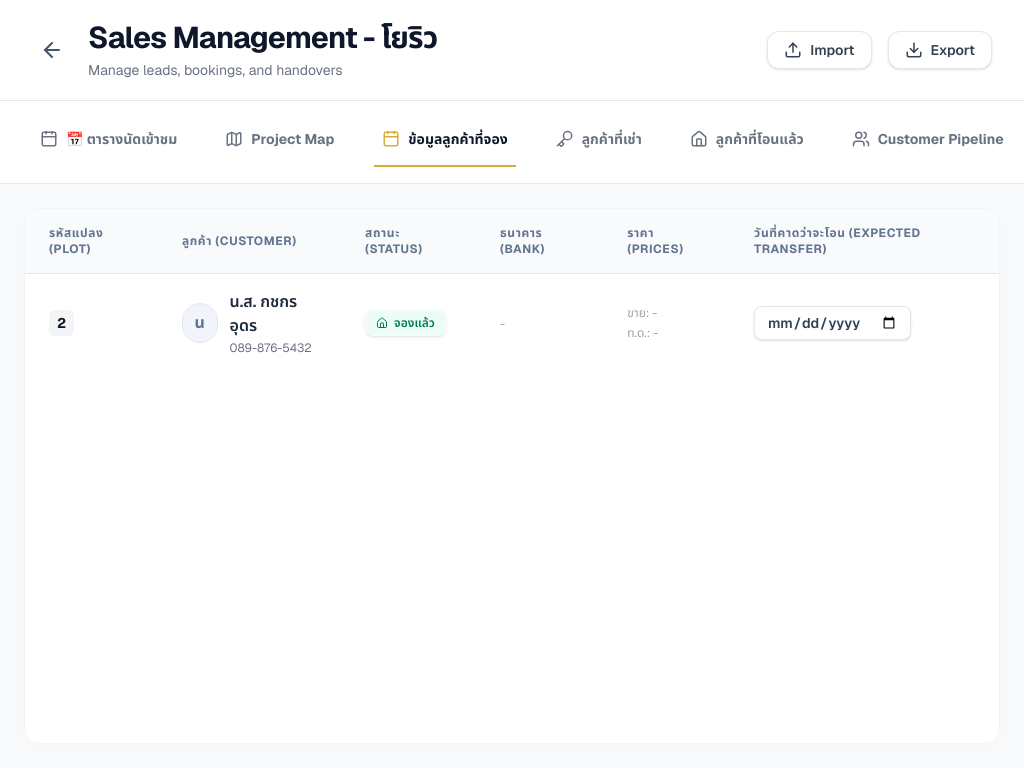
Test: SalesKanban legacy sales & leads deduplication › Finding 2: renders conflict notice banner and resolve action button in SalesKanban custom panel when conflict occurs
Open lead-2 (booked customer)
Click the text "น.ส. กชกร อุดร" at (263, 314), box [230,291,297,336]
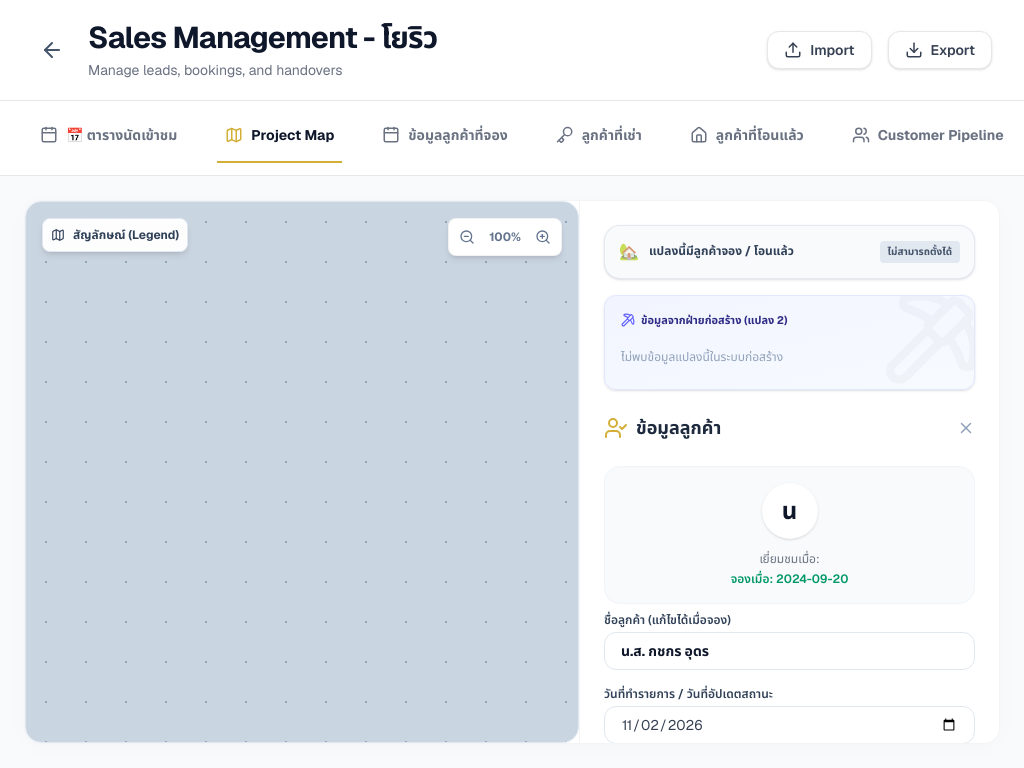
Now the field named "ชื่อลูกค้า" holds "น.ส. กชกร อุดร"
User edits customer to create dirty draft
Replace the text in the field named "ชื่อลูกค้า" with "น.ส. กชกร แก้ไขโดยผู้ใช้" at (790, 650), box [604,632,975,670]
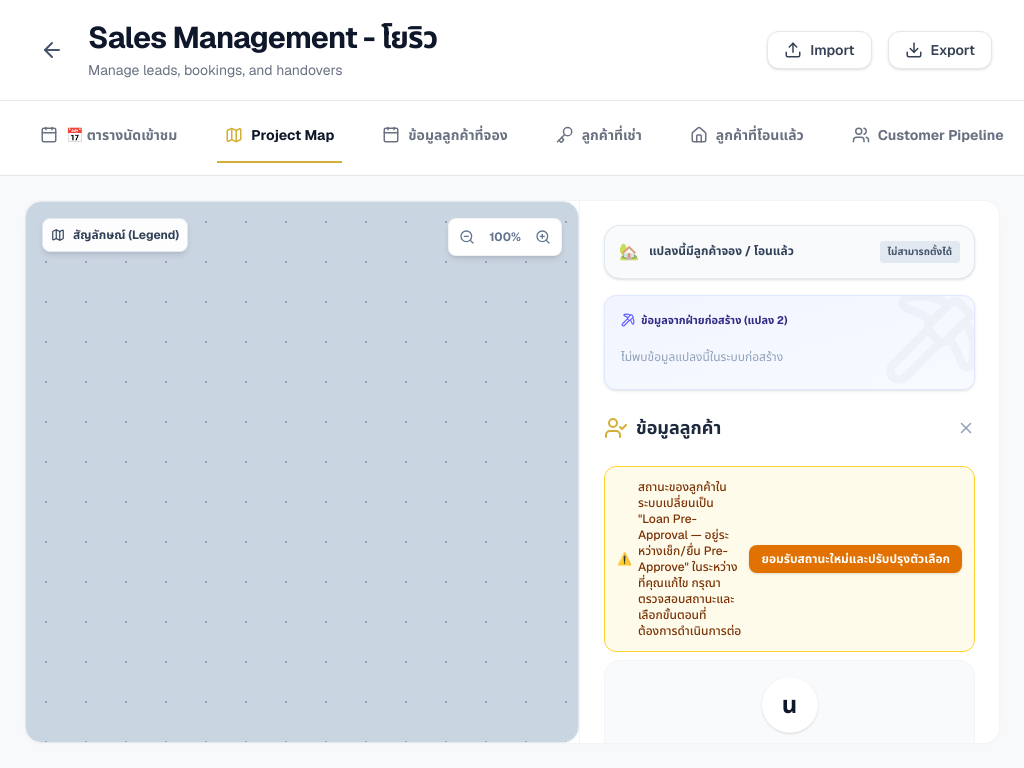
Now the text "สถานะของลูกค้าในระบบเปลี่ยนเป็น" is shown, box [638,478,741,638]
Now the button "ยอมรับสถานะใหม่และปรับปรุงตัวเลือก" is shown
Clicking resolve updates conflict and preserves draft
Click the button "ยอมรับสถานะใหม่และปรับปรุงตัวเลือก" at (856, 558), box [750,544,962,572]
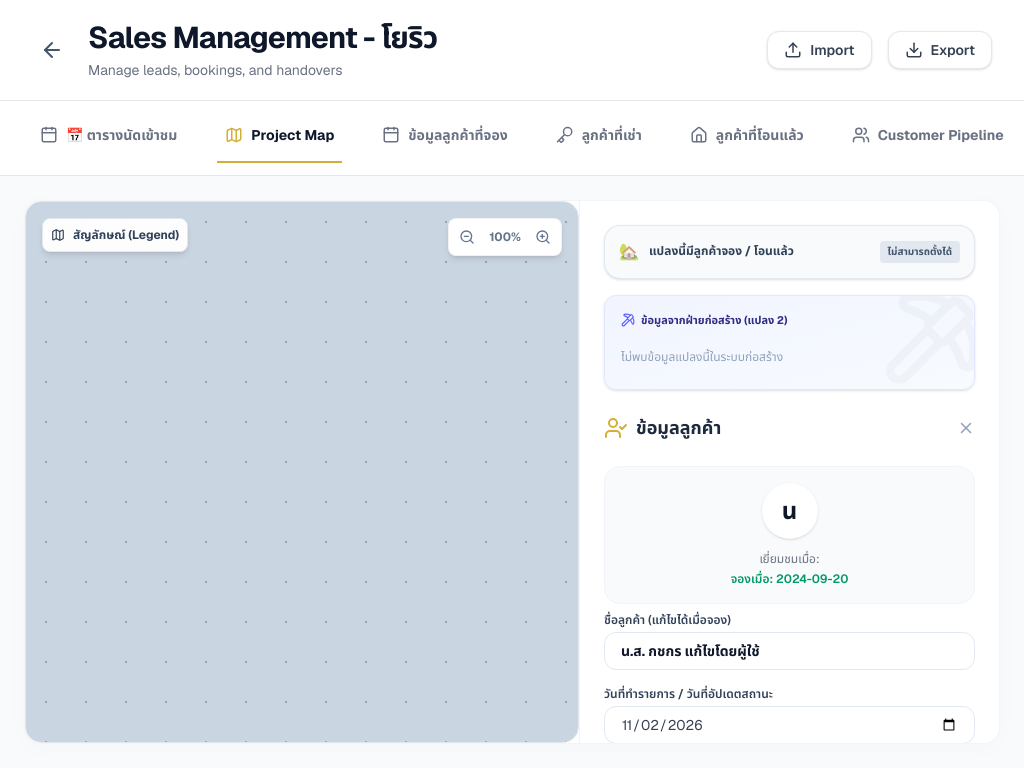
Now the button "ยอมรับสถานะใหม่และปรับปรุงตัวเลือก" is gone
